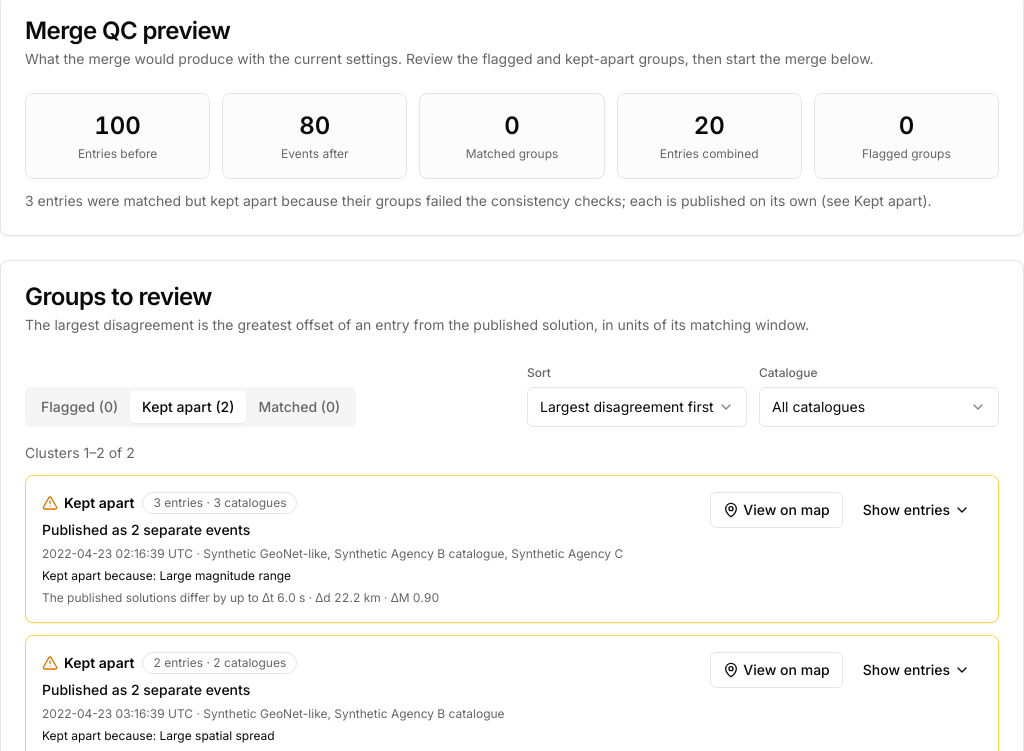
Test: kept-apart groups are shown together, by splitKey › draws a whole cluster on one map, every published entry ringed
The image size is (1024, 751).
Step 1. Click the button "View on map" in the row of "3 catalogues" → (776, 510), box x1=710 y1=492 x2=843 y2=528
(page scrolled)
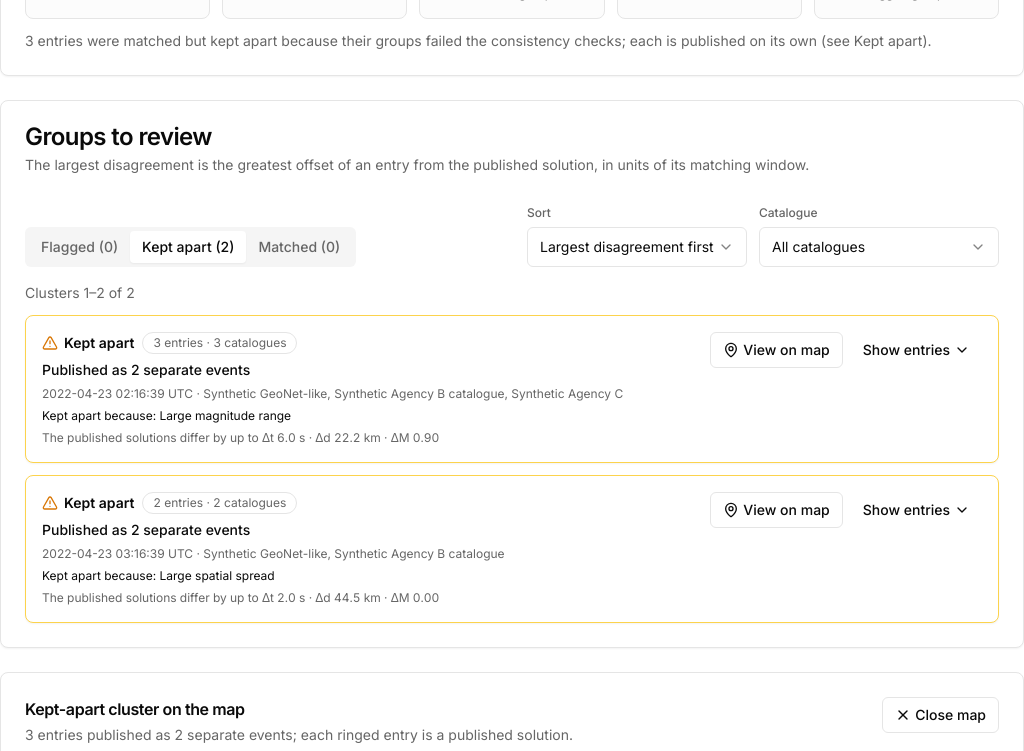
Expected: the heading "Kept-apart cluster on the map" is shown, x1=25 y1=699 x2=245 y2=719
Expected: the text "3 entries published as 2 separate events" is shown, x1=25 y1=726 x2=573 y2=743
